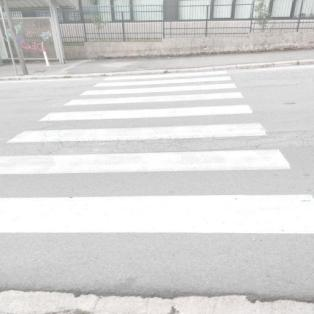Paso de Cebra: (0, 101, 282, 148), (89, 70, 236, 89)
